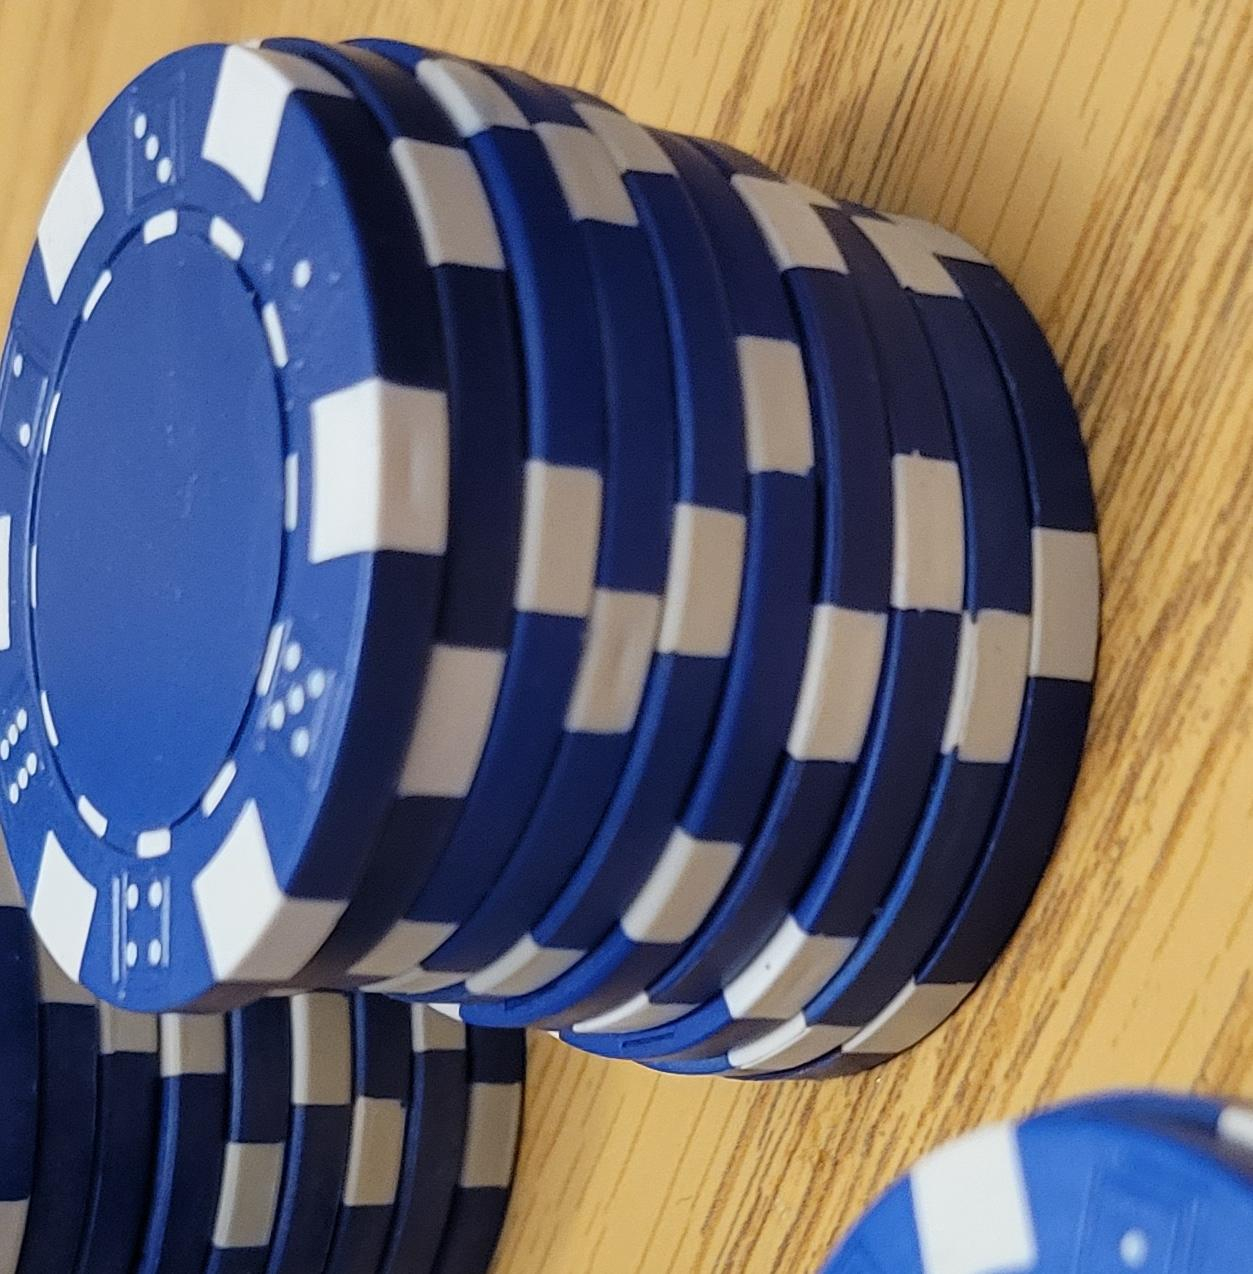Chip: (1, 116, 561, 1274)
